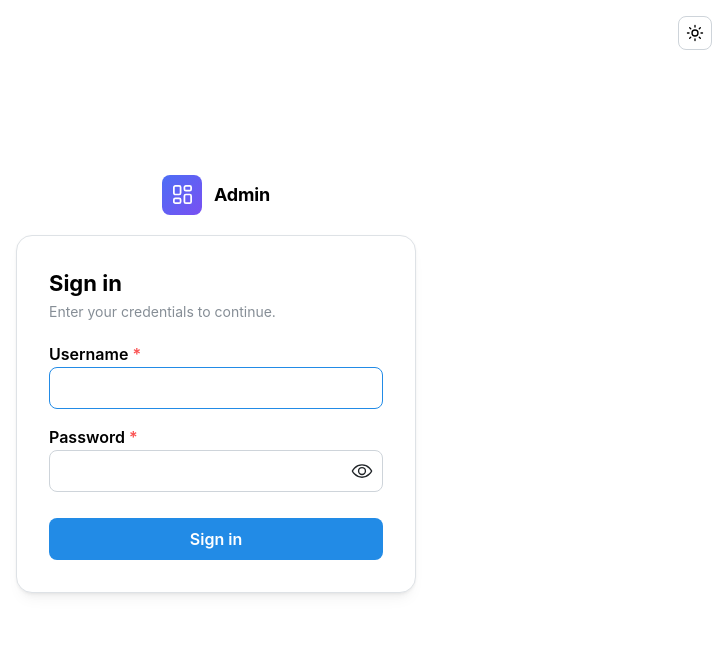
Scenario: the sign-in failure path › refuses a successful response that carries no token
Type "root" into the field labelled "Username *".
click(216, 388); type("root")  # box 49,367 -> 383,409
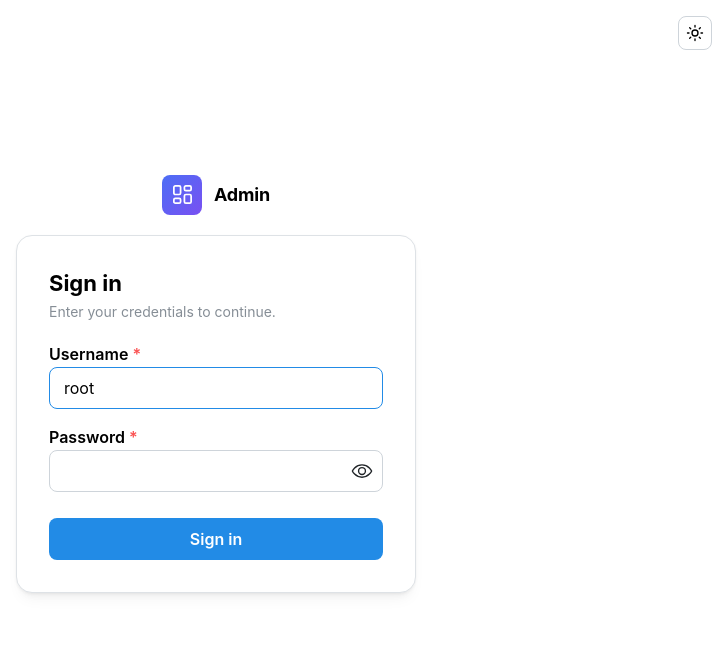
Type "hunter2" into the password field labelled "Password *".
click(216, 471); type("hunter2")  # box 50,451 -> 382,491
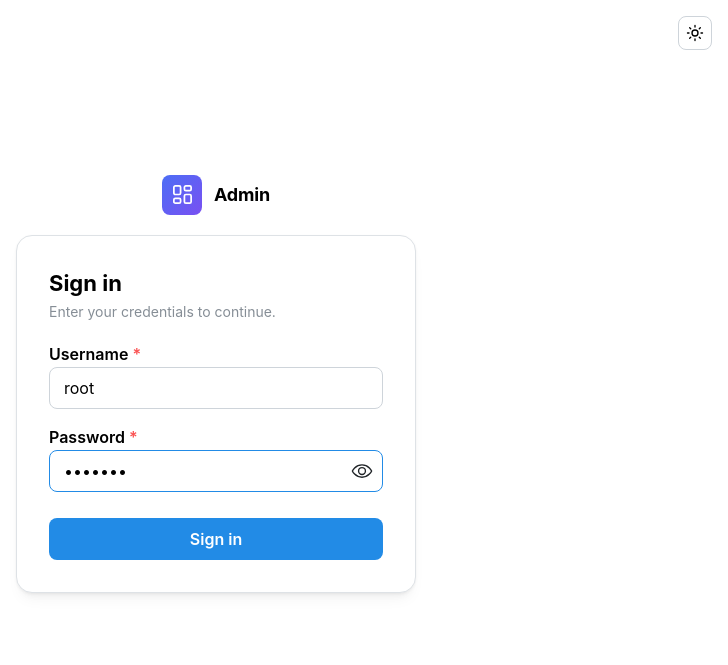
Click the button "Sign in".
click(216, 539)  # box 49,518 -> 383,560
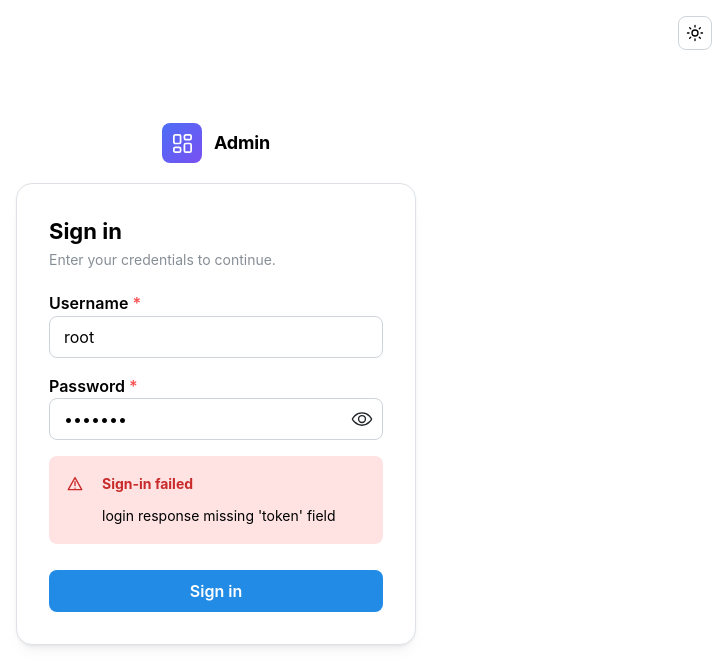
Expected: the text "login response missing 'token' field" is shown, 102,505 -> 366,527
